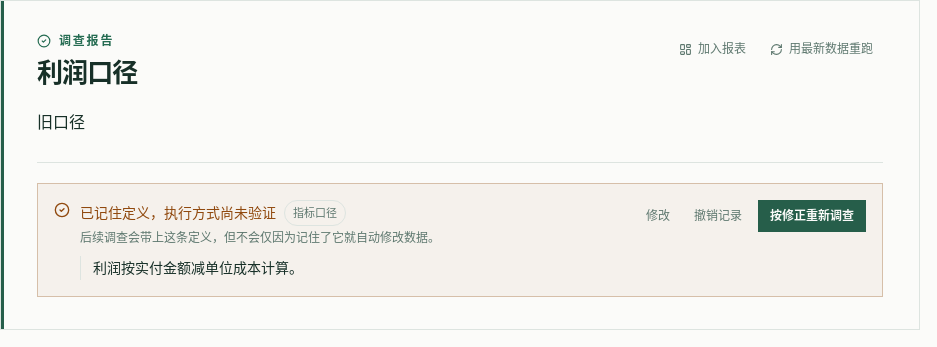
Test: AssistantMessageCard › restores a persisted correction and removes it through the undo action
Expected: the text "已记住定义，执行方式尚未验证" is shown, [80,202,276,222]
Expected: the text "利润按实付金额减单位成本计算。" is shown, [80,256,440,280]
Click the button "撤销记录": [718, 216] box [686,200,750,232]
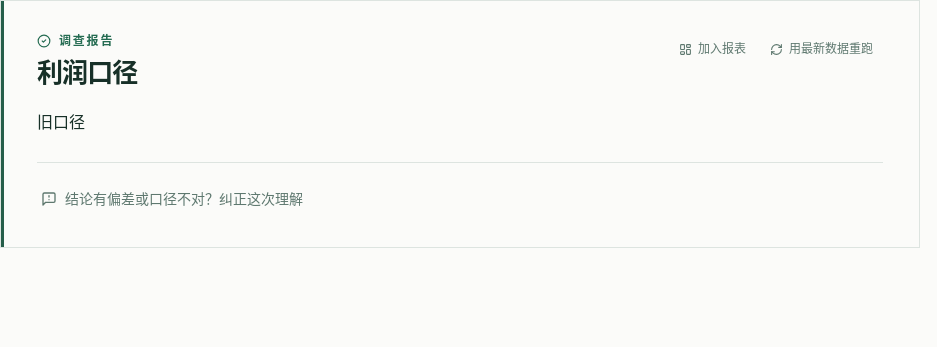
Expected: the button "结论有偏差或口径不对？纠正这次理解" is shown, [37,182,307,214]
